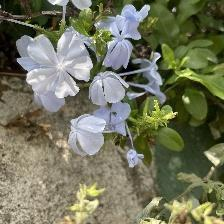chitrak: (27, 34, 95, 100)
